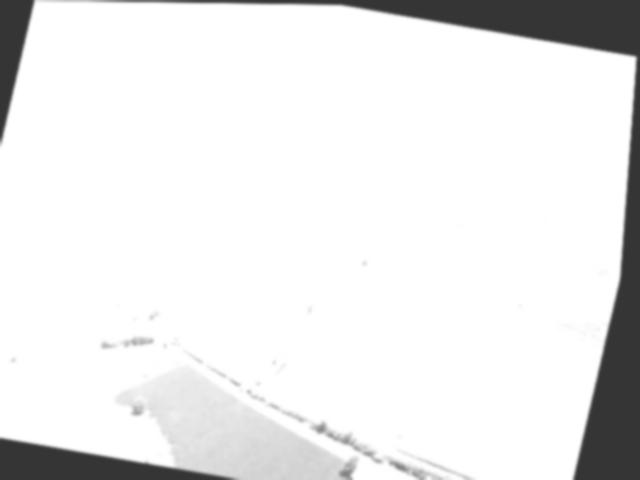hedef: (403, 380, 508, 452)
